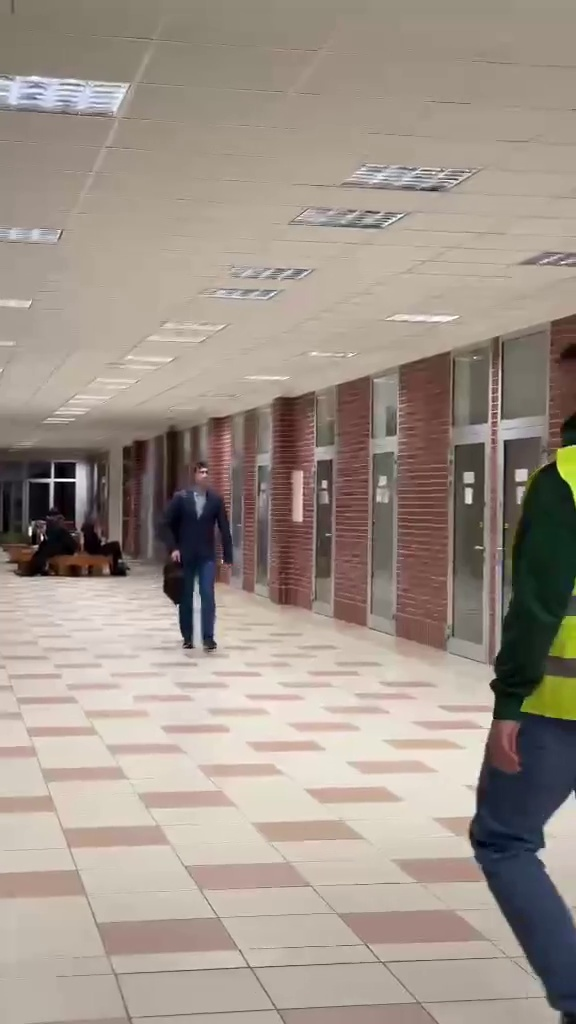no vest: (153, 459, 238, 653)
vest: (469, 403, 576, 1024)
